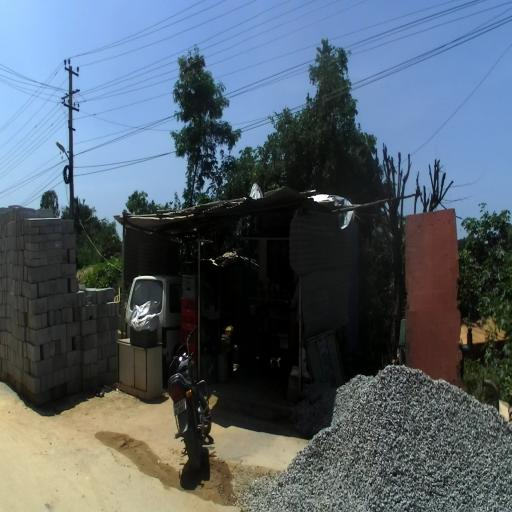street_light_0: (56, 142, 73, 164)
